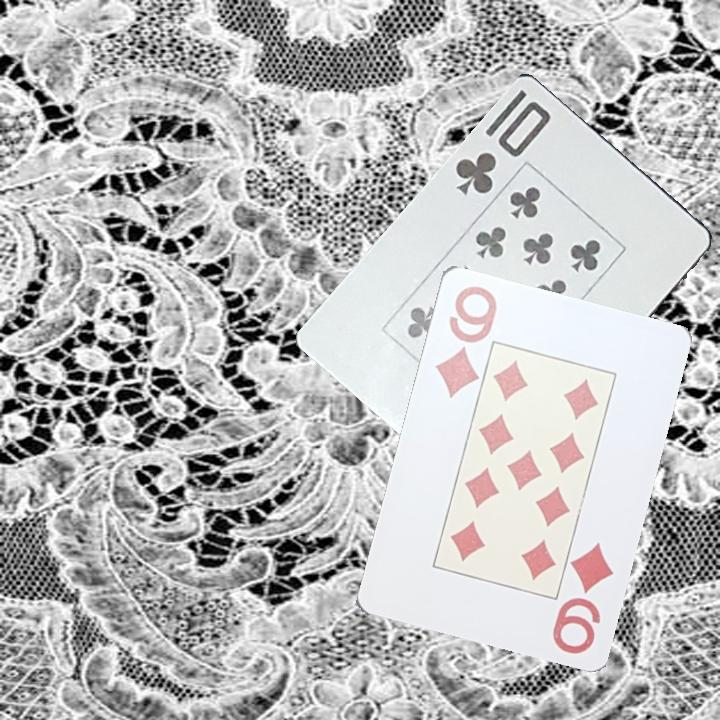9d: (431, 281, 499, 400), (548, 538, 616, 657)
Tc: (451, 96, 554, 199)
